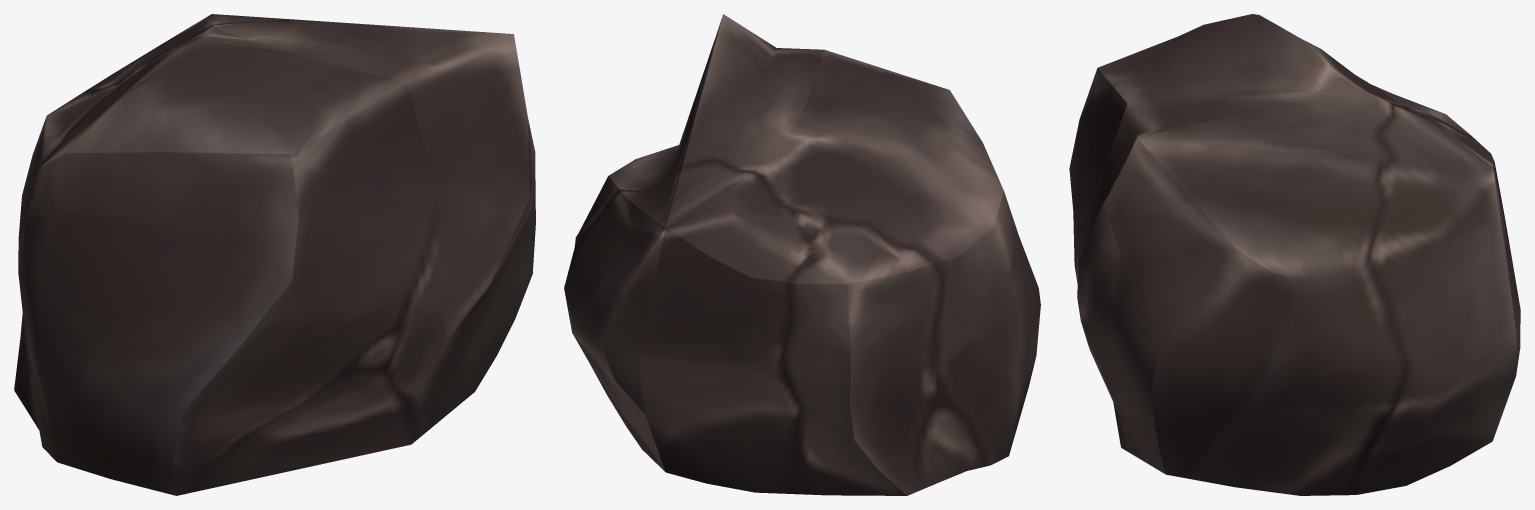
Rendered from rock_09.fbx.
3 views of the same model, side by side, from view 1: azimuth 30°, elevation 25°; view 2: azimuth 150°, elevation 25°; view 3: azimuth 270°, elevation 25° (orthographic). The views are drawn at different scales.
Parts seen in each view (by area): view 1: rock_09; view 2: rock_09; view 3: rock_09.
Boxes of the visible parts, x1=… form: rock_09: x1=14, y1=14, x2=535, y2=495; rock_09: x1=564, y1=14, x2=1040, y2=495; rock_09: x1=1069, y1=14, x2=1520, y2=495.
Bounding box in the file's own units: 2.2 × 1.63 × 1.85.
